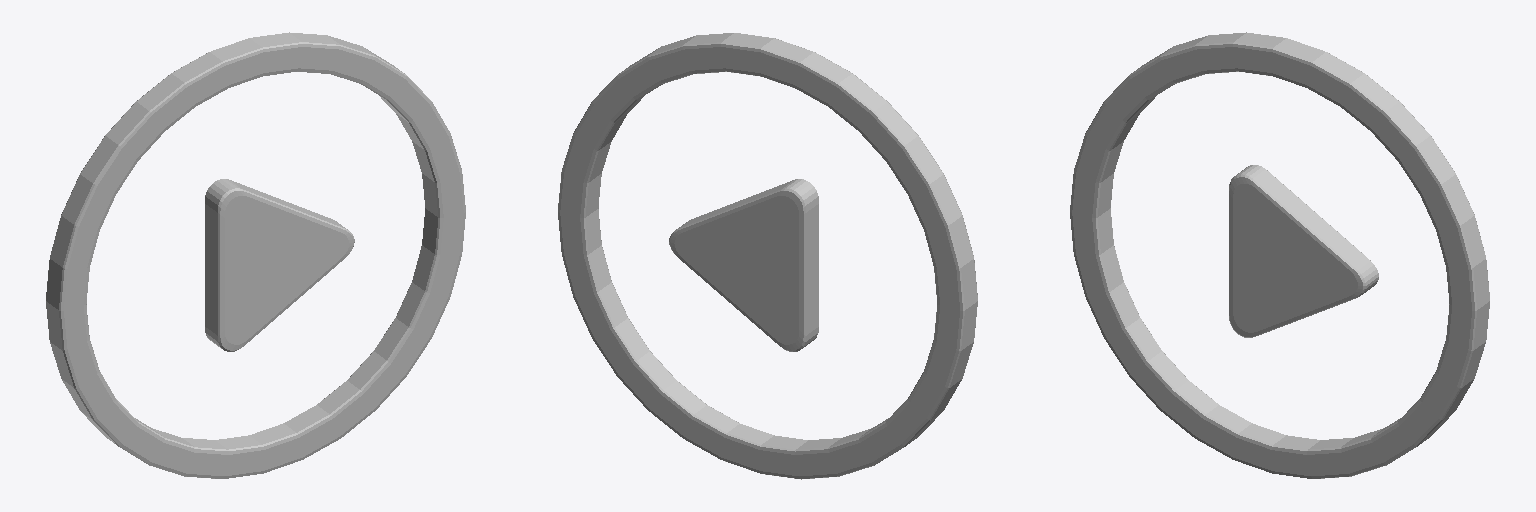
File: s-play-centred.obj
3 renders of one model, left to right at view 1: azimuth 30°, elevation 25°; view 2: azimuth 150°, elevation 25°; view 3: azimuth 330°, elevation 25°, orthographic.
Visible parts, largest first — view 1: Circle; view 2: Circle; view 3: Circle.
Part boxes in pixels (x1,y1,x2,y2): Circle: (46,32,465,478); Circle: (558,33,977,479); Circle: (1070,32,1489,478).
Bounding box in the file's own units: 1.04 × 1.04 × 0.0687.